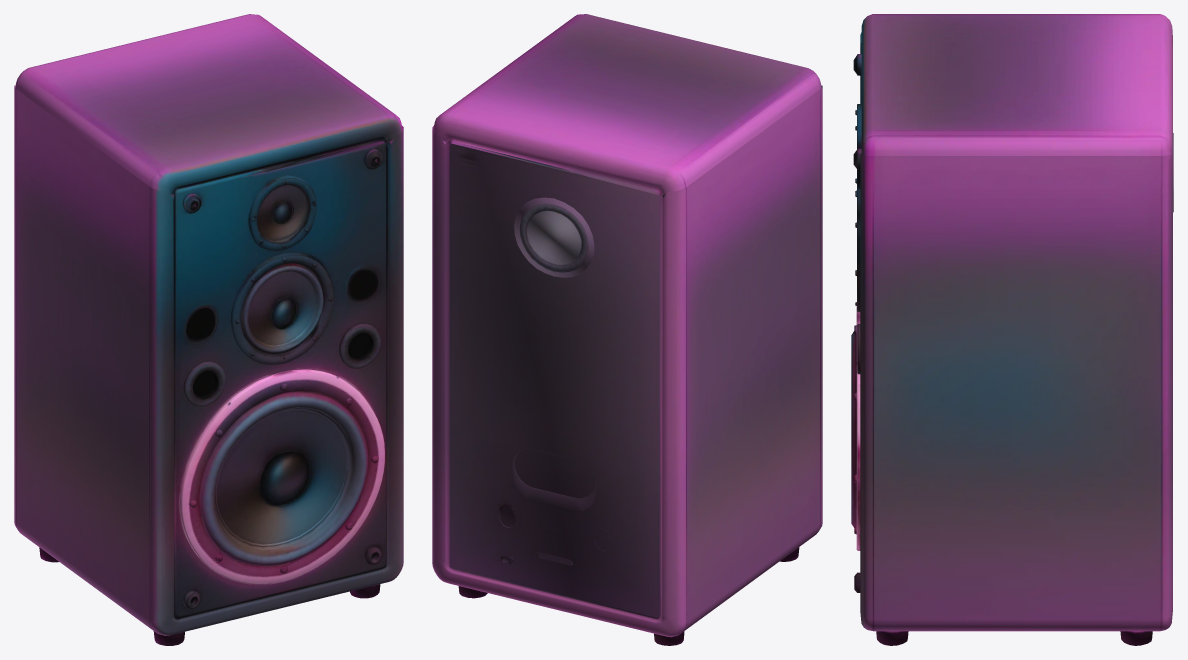
File: night_club_speakers_9155e359_v1.glb
3 renders of one model, left to right at view 1: azimuth 30°, elevation 25°; view 2: azimuth 150°, elevation 25°; view 3: azimuth 270°, elevation 25°, orthographic. The views are drawn at different scales.
Parts seen in each view (by area): view 1: material; view 2: material; view 3: material.
Part boxes in pixels (bbox=[...]): material: bbox=[14, 14, 403, 645]; material: bbox=[432, 14, 822, 645]; material: bbox=[851, 14, 1173, 645].
Bounding box in the file's own units: 1.04 × 1.9 × 1.08.
Materials: 1 (1 with a texture image).
